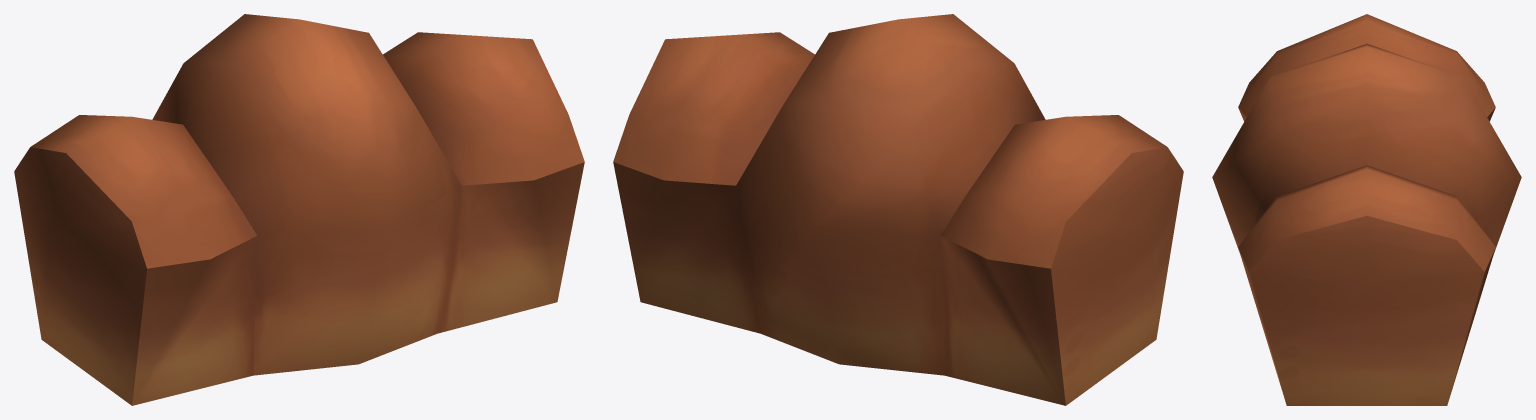
File: bread.FBX
3 renders of one model, left to right at view 1: azimuth 30°, elevation 25°; view 2: azimuth 150°, elevation 25°; view 3: azimuth 270°, elevation 25°, orthographic. The views are drawn at different scales.
Parts seen in each view (by area): view 1: bread; view 2: bread; view 3: bread.
Part boxes in pixels (x1,y1,x2,y2): bread: (14, 14, 584, 405); bread: (613, 14, 1183, 405); bread: (1212, 14, 1521, 405).
Bounding box in the file's own units: 9.56 × 5.54 × 5.81.
